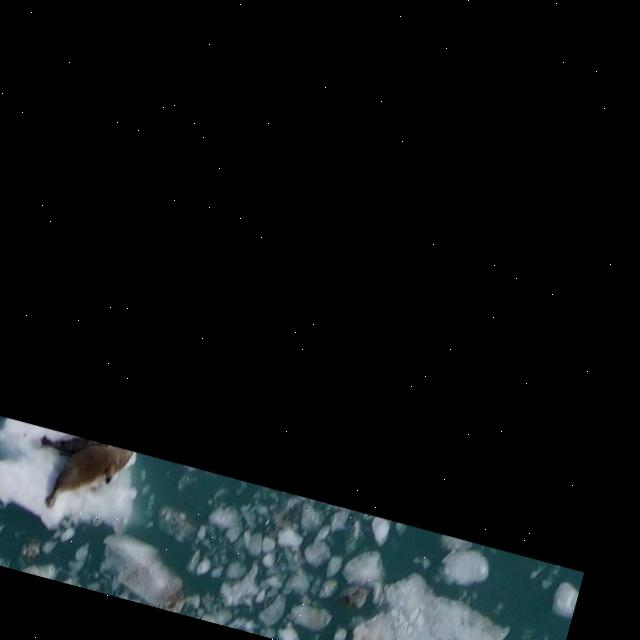seal: (44, 444, 133, 509), (41, 437, 97, 454)
